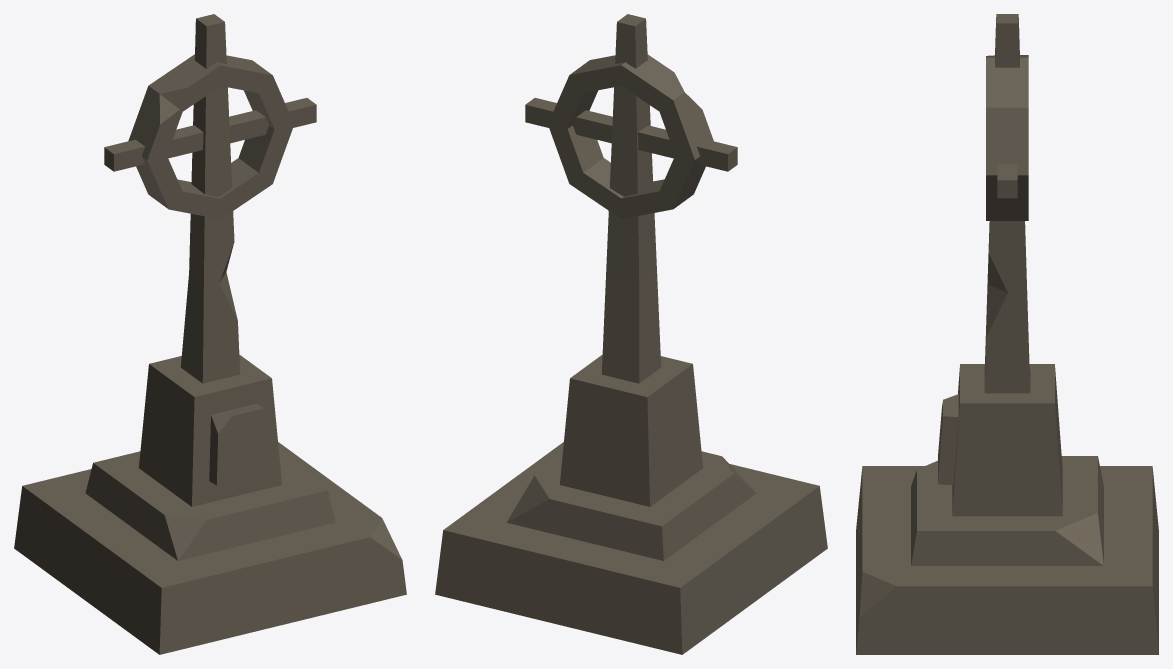
Rendered from Grave_4.fbx.
3 renders of one model, left to right at view 1: azimuth 30°, elevation 25°; view 2: azimuth 150°, elevation 25°; view 3: azimuth 270°, elevation 25°, orthographic. The views are drawn at different scales.
Parts seen in each view (by area): view 1: Grave_4; view 2: Grave_4; view 3: Grave_4.
Part boxes in pixels (x1,y1,x2,y2): Grave_4: (14,14,406,654); Grave_4: (435,14,827,654); Grave_4: (856,14,1158,654).
Bounding box in the file's own units: 87.22 × 186 × 88.87.
